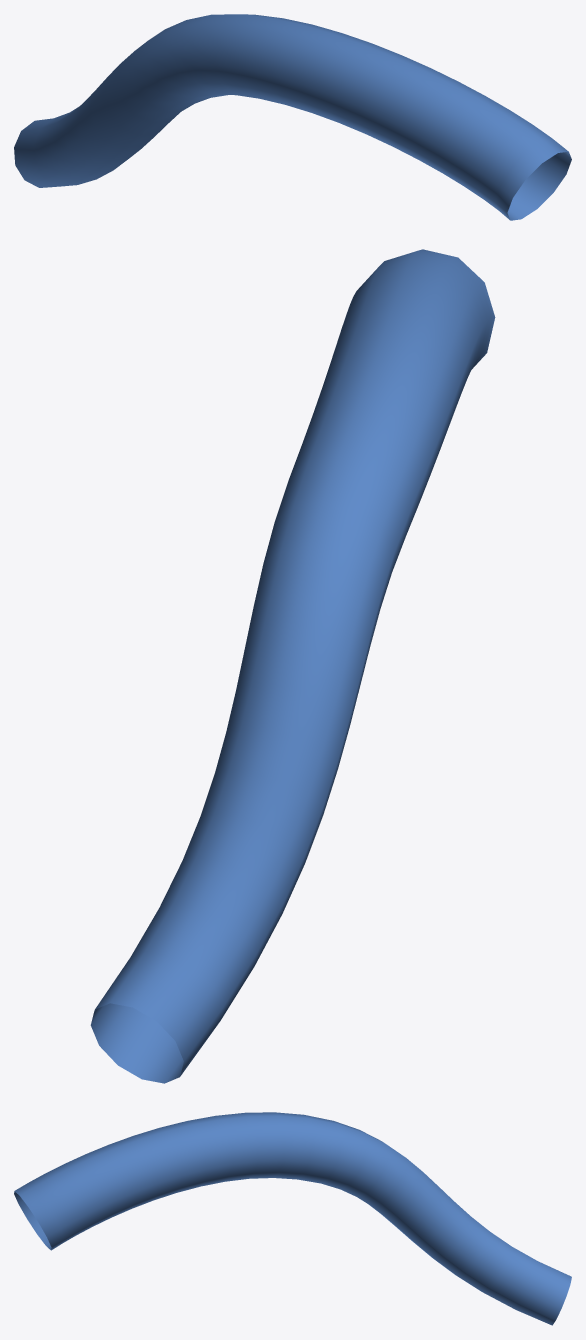
The picture shows the model from 3 angles, top to bottom: view 1: azimuth 30°, elevation 25°; view 2: azimuth 150°, elevation 25°; view 3: azimuth 270°, elevation 25°; orthographic projection. The views are drawn at different scales.
Visible parts, largest first — view 1: 右侧髂外静脉; view 2: 右侧髂外静脉; view 3: 右侧髂外静脉.
Part boxes in pixels (x1,y1,x2,y2): 右侧髂外静脉: (14,14,571,220); 右侧髂外静脉: (90,249,495,1083); 右侧髂外静脉: (14,1112,571,1325).
Bounding box in the file's own units: 0.0551 × 0.0683 × 0.1512.
